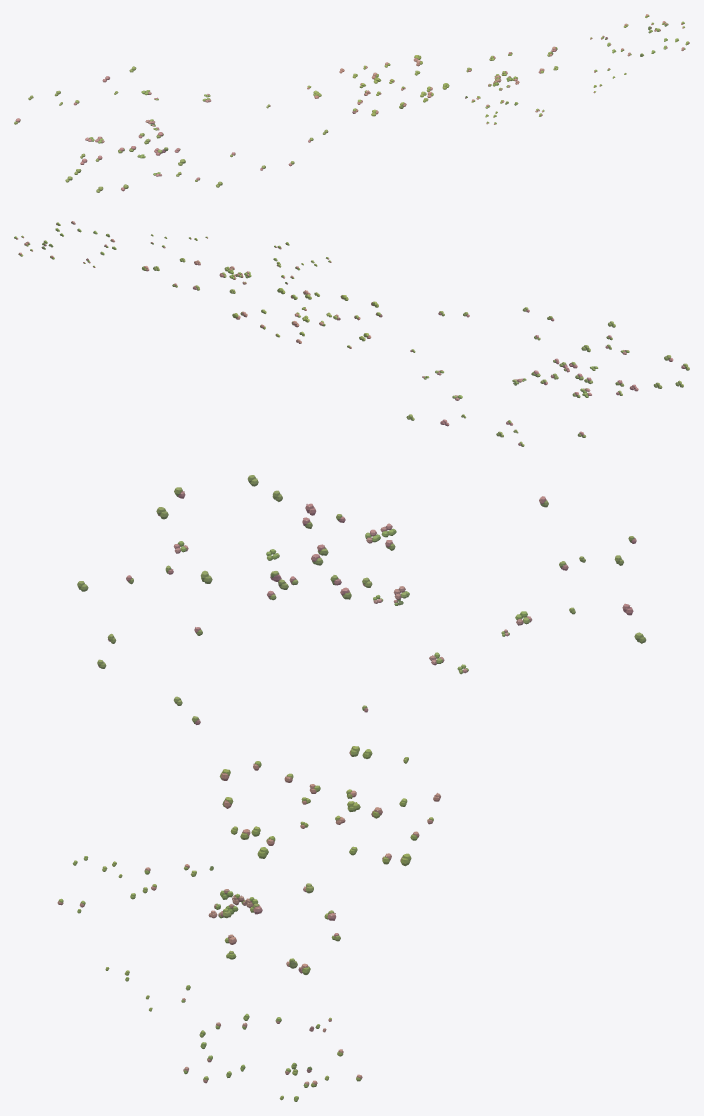
Rendered from season_spring.glb.
3 views of the same model, one above another, from view 1: azimuth 30°, elevation 25°; view 2: azimuth 150°, elevation 25°; view 3: azimuth 270°, elevation 25° (orthographic). The views are drawn at different scales.
Parts seen in each view (by area): view 1: no part large enough to name; view 2: Jahreszeit · spring · -7,0; view 3: Jahreszeit · spring · -7,0.
Part boxes in pixels (bbox=[...]): Jahreszeit · spring · -7,0: bbox=[540, 362, 592, 397]; Jahreszeit · spring · -7,0: bbox=[280, 523, 396, 589].
Bounding box in the file's own units: 262 × 4.78 × 106.
